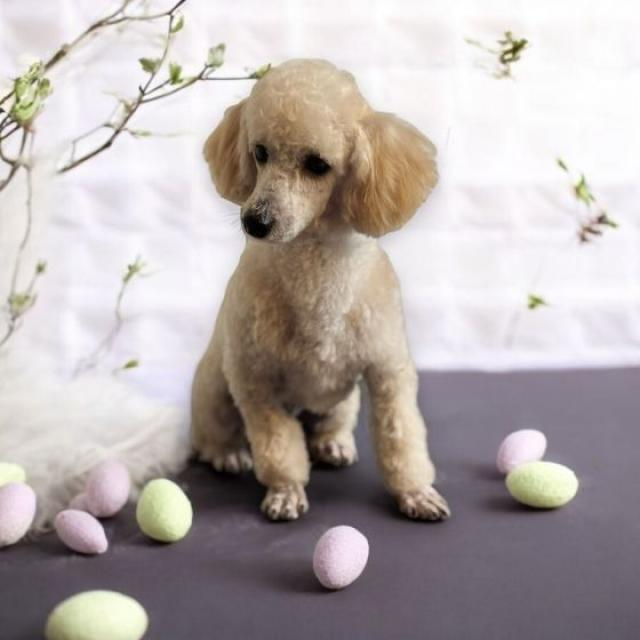Poodle_dog: (186, 52, 444, 262)
